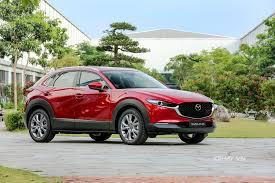mazda: (193, 102, 203, 112)
